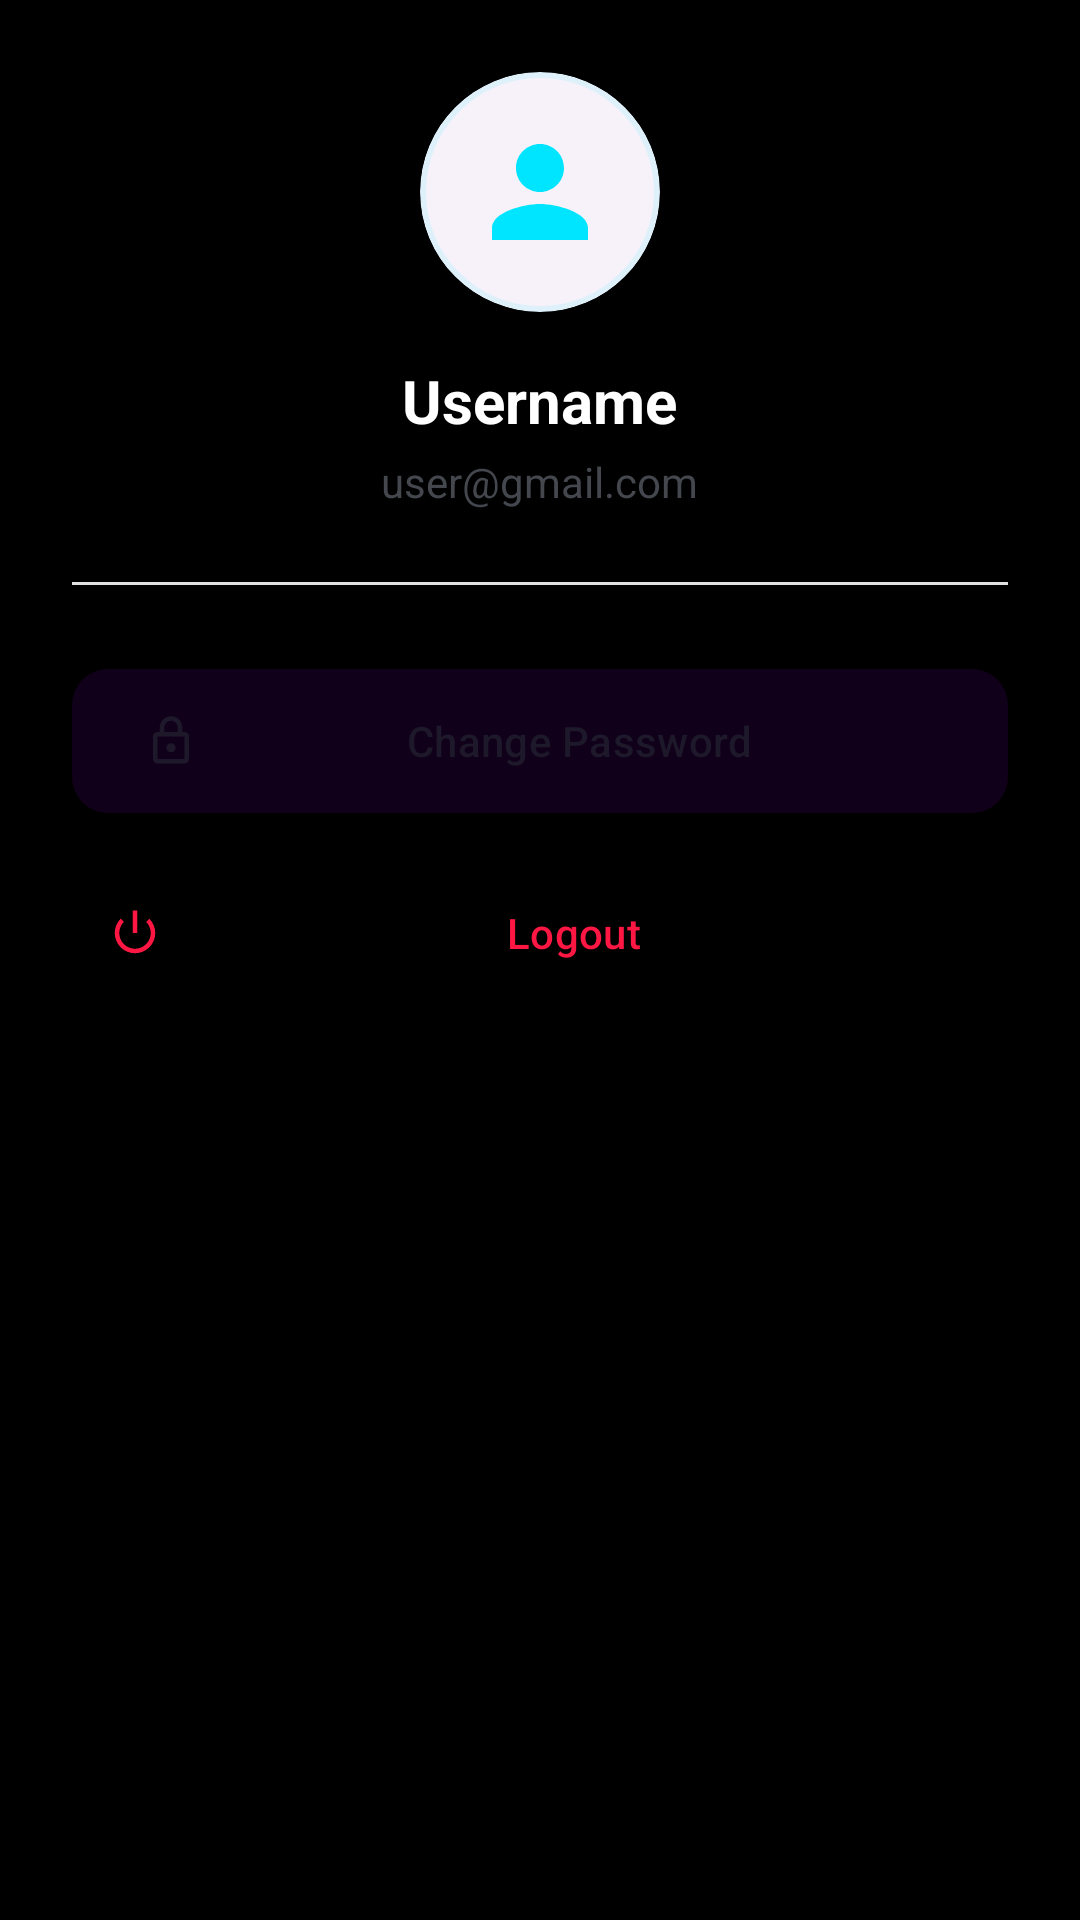

Point at icon controls on the screen. Image size 1080x1920, points as point (x, y).
profile: point (540, 192)
